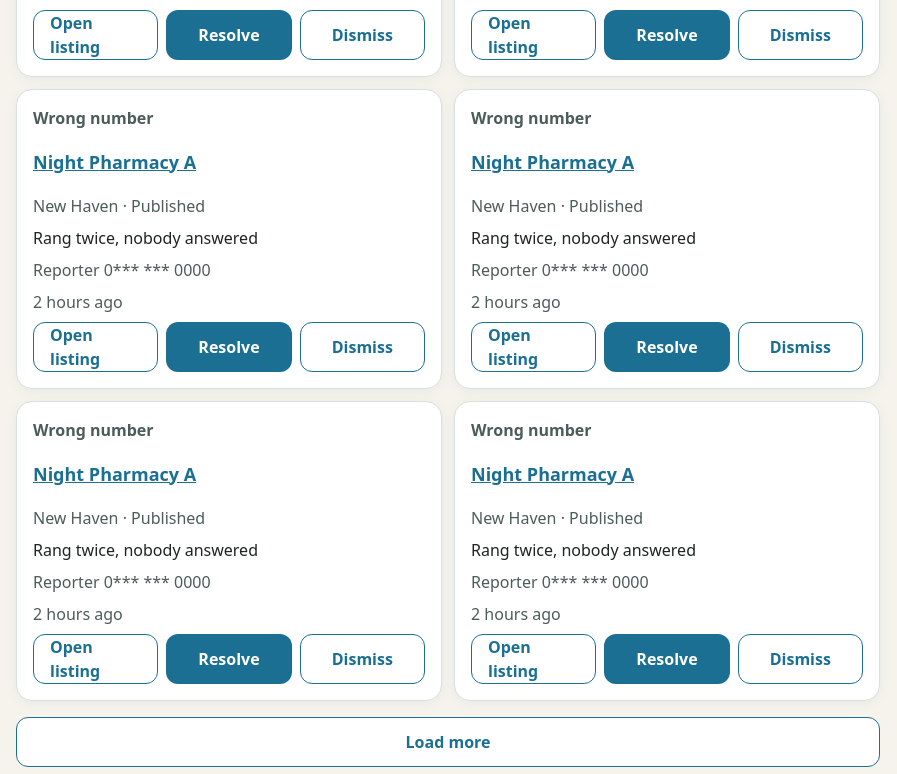
it: paging and states › loads 20 at a time with Load more until all are shown
(page scrolled)
Click the button "Load more": click(448, 742) [16,717,880,767]
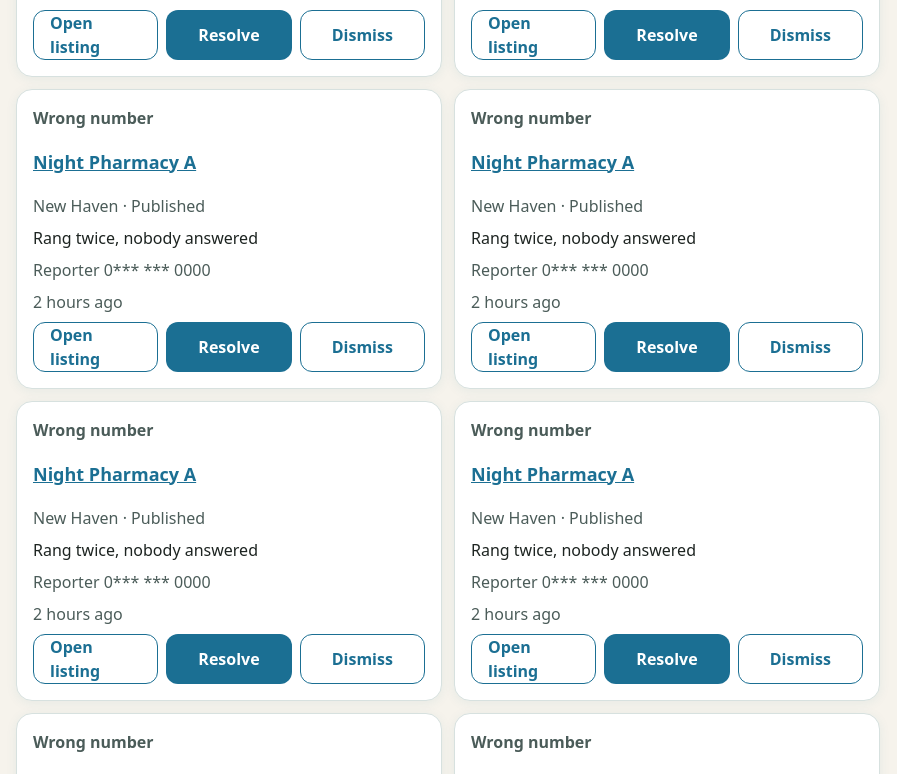
Result: the button "Load more" is gone
